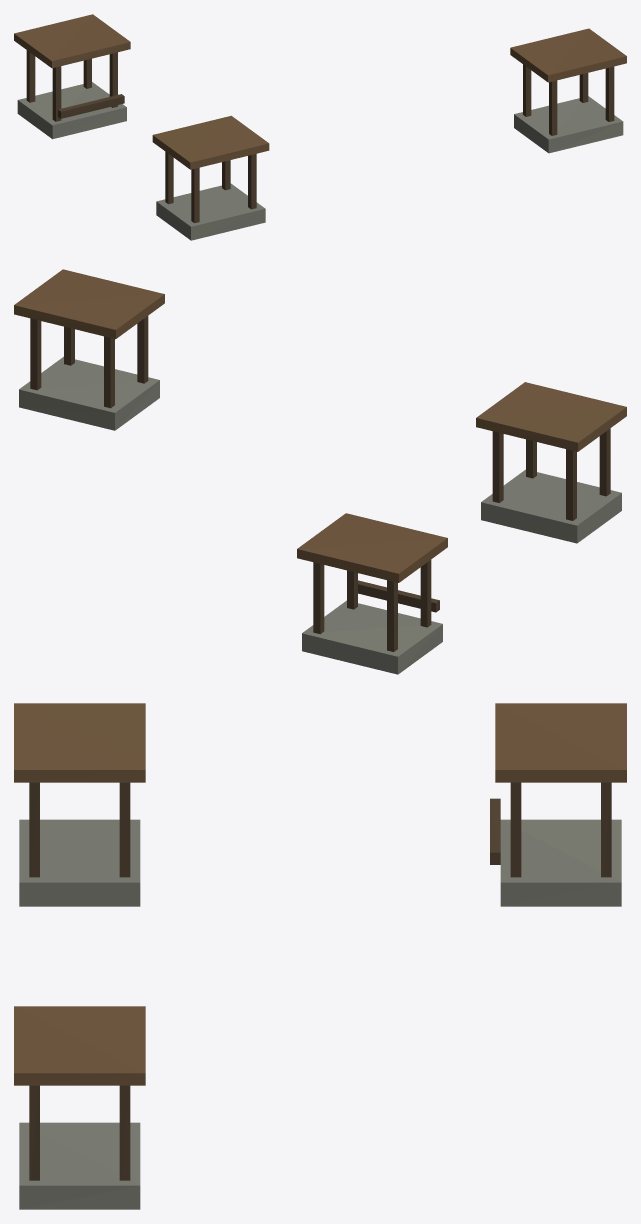
File: MIL-01-4.glb
3 renders of one model, top to bottom at view 1: azimuth 30°, elevation 25°; view 2: azimuth 150°, elevation 25°; view 3: azimuth 270°, elevation 25°, orthographic. The views are drawn at different scales.
Parts seen in each view (by area): view 1: city-details/MIL-01-4; view 2: city-details/MIL-01-4; view 3: city-details/MIL-01-4.
Boxes of the visible parts, x1,y1,x2,y2 form: city-details/MIL-01-4: [14, 14, 626, 240]; city-details/MIL-01-4: [14, 269, 626, 674]; city-details/MIL-01-4: [14, 703, 626, 1209].
Bounding box in the file's own units: 8.91 × 1.57 × 6.24.
